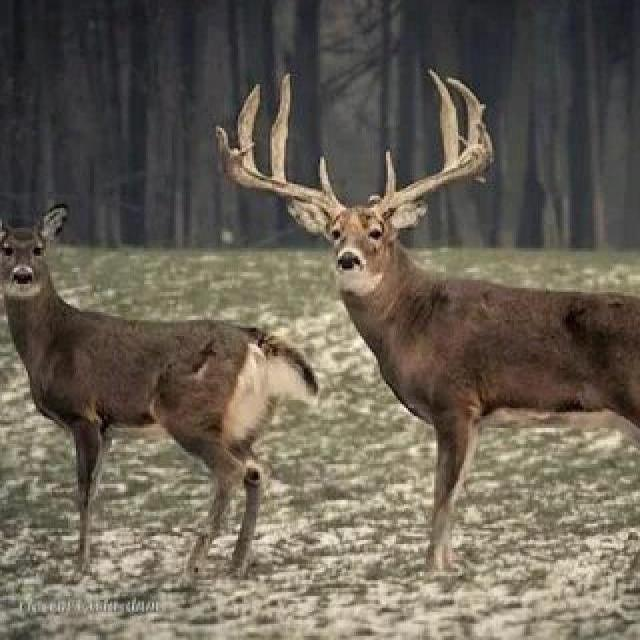deer: (204, 41, 634, 560), (0, 226, 347, 571)
